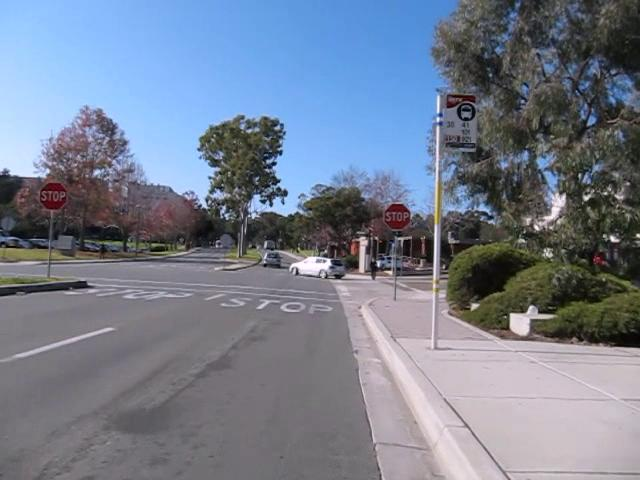stop: (37, 180, 69, 211), (383, 201, 411, 231)
